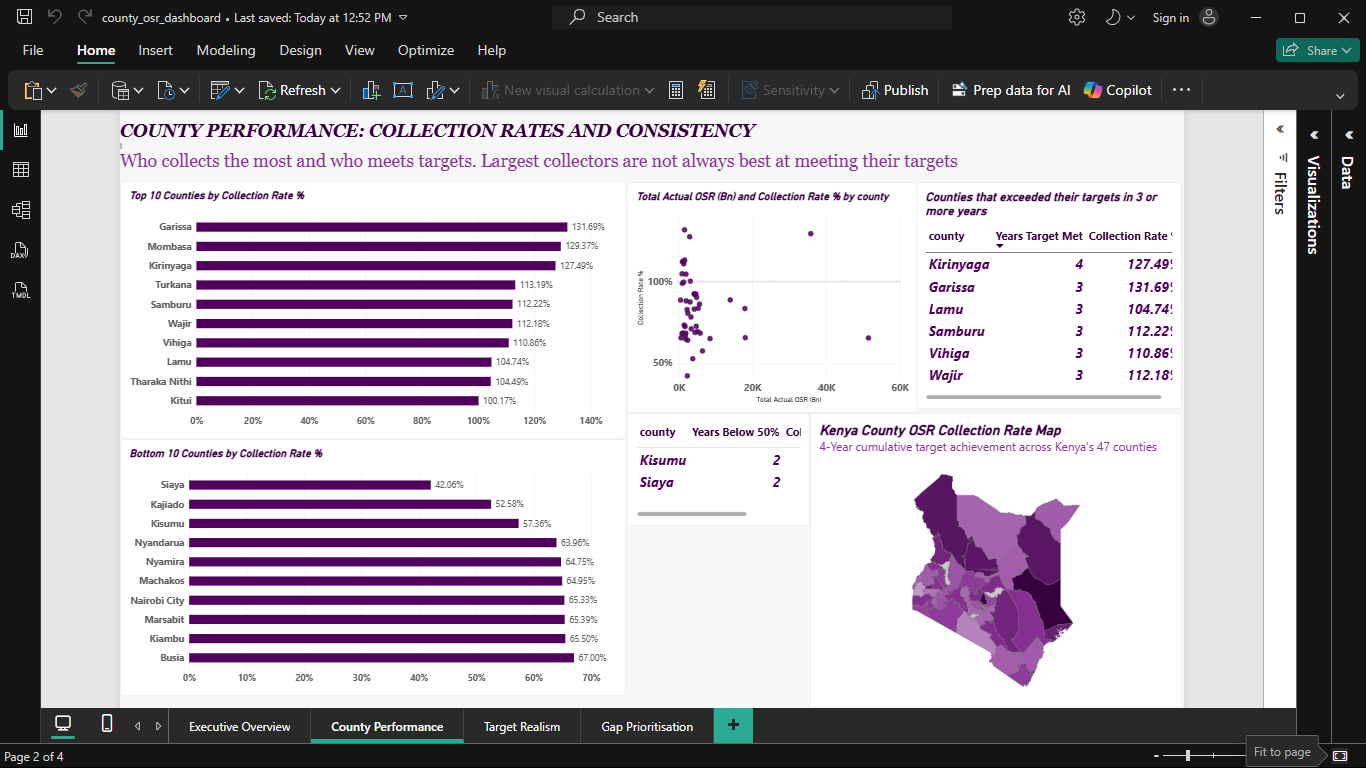

The dashboard page shown, as its layout file describes it:
{"tool":"powerbi","page":{"name":"County Performance","canvas":[1920,1080],"ordinal":1},"visuals":[{"type":"textbox","box":[0,0,1918,140.9],"z":0},{"type":"clusteredBarChart","title":"Top 10 Counties by Collection Rate %","fields":{"Category":["county_osr.county"],"Y":["county_osr.Collection Rate %"]},"box":[0,128.2,913.8,466],"z":1000},{"type":"scatterChart","fields":{"Category":["county_osr.county"],"X":["county_osr.Total Actual OSR (Bn)"],"Y":["county_osr.Collection Rate %"]},"box":[915.7,130,525.6,417.2],"z":2000},{"type":"clusteredBarChart","title":"Bottom 10 Counties by Collection Rate %","fields":{"Category":["county_osr.county"],"Y":["county_osr.Collection Rate %"]},"box":[0,594.2,913.8,464.1],"z":3000},{"type":"tableEx","title":"Counties that exceeded their targets in 3 or more years","fields":{"Values":["county_osr.county","county_osr.Years Target Met","county_osr.Collection Rate %"]},"box":[1437.6,130,480.4,410],"z":4000},{"type":"tableEx","fields":{"Values":["county_osr.county","county_osr.Years Below 50%","county_osr.Collection Rate %"]},"box":[915.7,547.2,330.5,204.1],"z":5000},{"type":"shapeMap","title":"Kenya County OSR Collection Rate Map","fields":{"Category":["county_osr.county"],"Value":["county_osr.Collection Rate %"]},"box":[1246.2,547.2,671.8,532.8],"z":5001}]}

Visuals, with their boxes on the page's 1920x1080 design canvas (x1, y1, x2, y2). These are canvas units, not pixel positions in the 1366x768 screenshot, which may show the page scaled, cropped or inside an application window:
textbox: [left=0, top=0, right=1918, bottom=141]
"Top 10 Counties by Collection Rate %" clusteredBarChart: [left=0, top=128, right=914, bottom=594]
scatterChart - county_osr.county x county_osr.Total Actual OSR (Bn): [left=916, top=130, right=1441, bottom=547]
"Bottom 10 Counties by Collection Rate %" clusteredBarChart: [left=0, top=594, right=914, bottom=1058]
"Counties that exceeded their targets in 3 or more years" tableEx: [left=1438, top=130, right=1918, bottom=540]
tableEx - county_osr.county x county_osr.Years Below 50%: [left=916, top=547, right=1246, bottom=751]
"Kenya County OSR Collection Rate Map" shapeMap: [left=1246, top=547, right=1918, bottom=1080]
